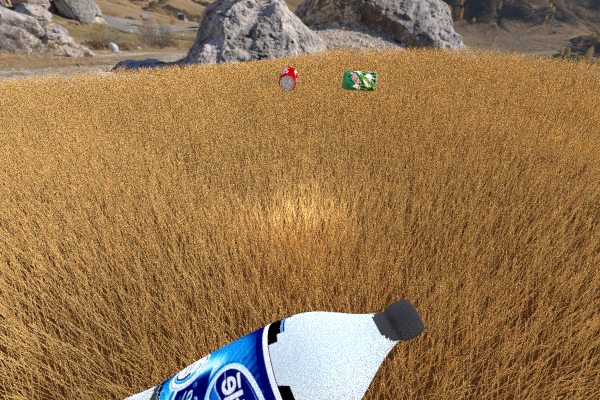bottle: (9, 298, 424, 400)
can: (341, 70, 377, 91), (278, 66, 297, 91)
